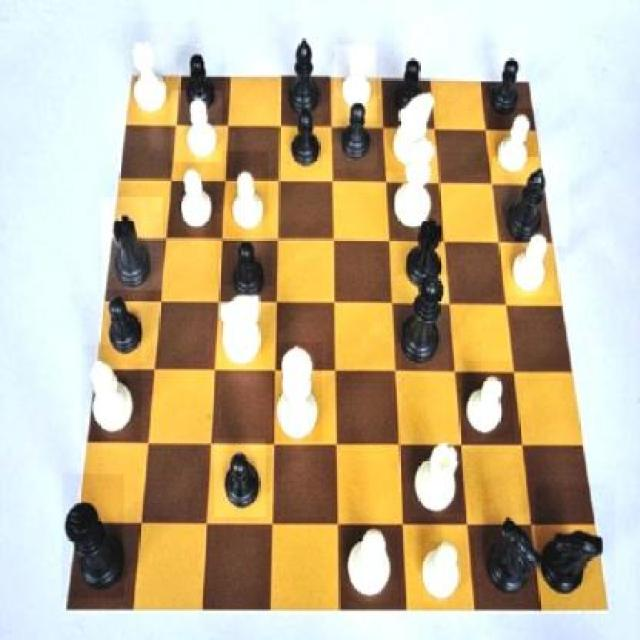bishop: (492, 157, 570, 246), (280, 24, 331, 120)
black-bishop: (61, 476, 124, 600)
black-king: (534, 484, 614, 616), (476, 486, 534, 610)
black-knight: (216, 230, 272, 308), (214, 439, 266, 516), (173, 46, 224, 123), (383, 52, 435, 126), (101, 285, 148, 360), (334, 96, 377, 170), (283, 111, 325, 173), (488, 49, 525, 117)
black-pawn: (396, 276, 450, 372)
black-queen: (101, 197, 164, 290), (397, 209, 447, 297)
black-rook: (82, 344, 142, 440), (338, 518, 402, 608)
white-bishop: (272, 343, 322, 443)
white-king: (216, 284, 276, 372), (386, 88, 439, 172)
white-knight: (461, 360, 514, 438), (169, 158, 217, 238), (223, 152, 268, 237), (170, 91, 222, 163), (489, 109, 540, 180), (414, 536, 463, 604), (334, 46, 376, 120), (508, 236, 554, 296)
white-pawn: (395, 134, 438, 234)
white-queen: (125, 23, 177, 123), (404, 436, 464, 518)
